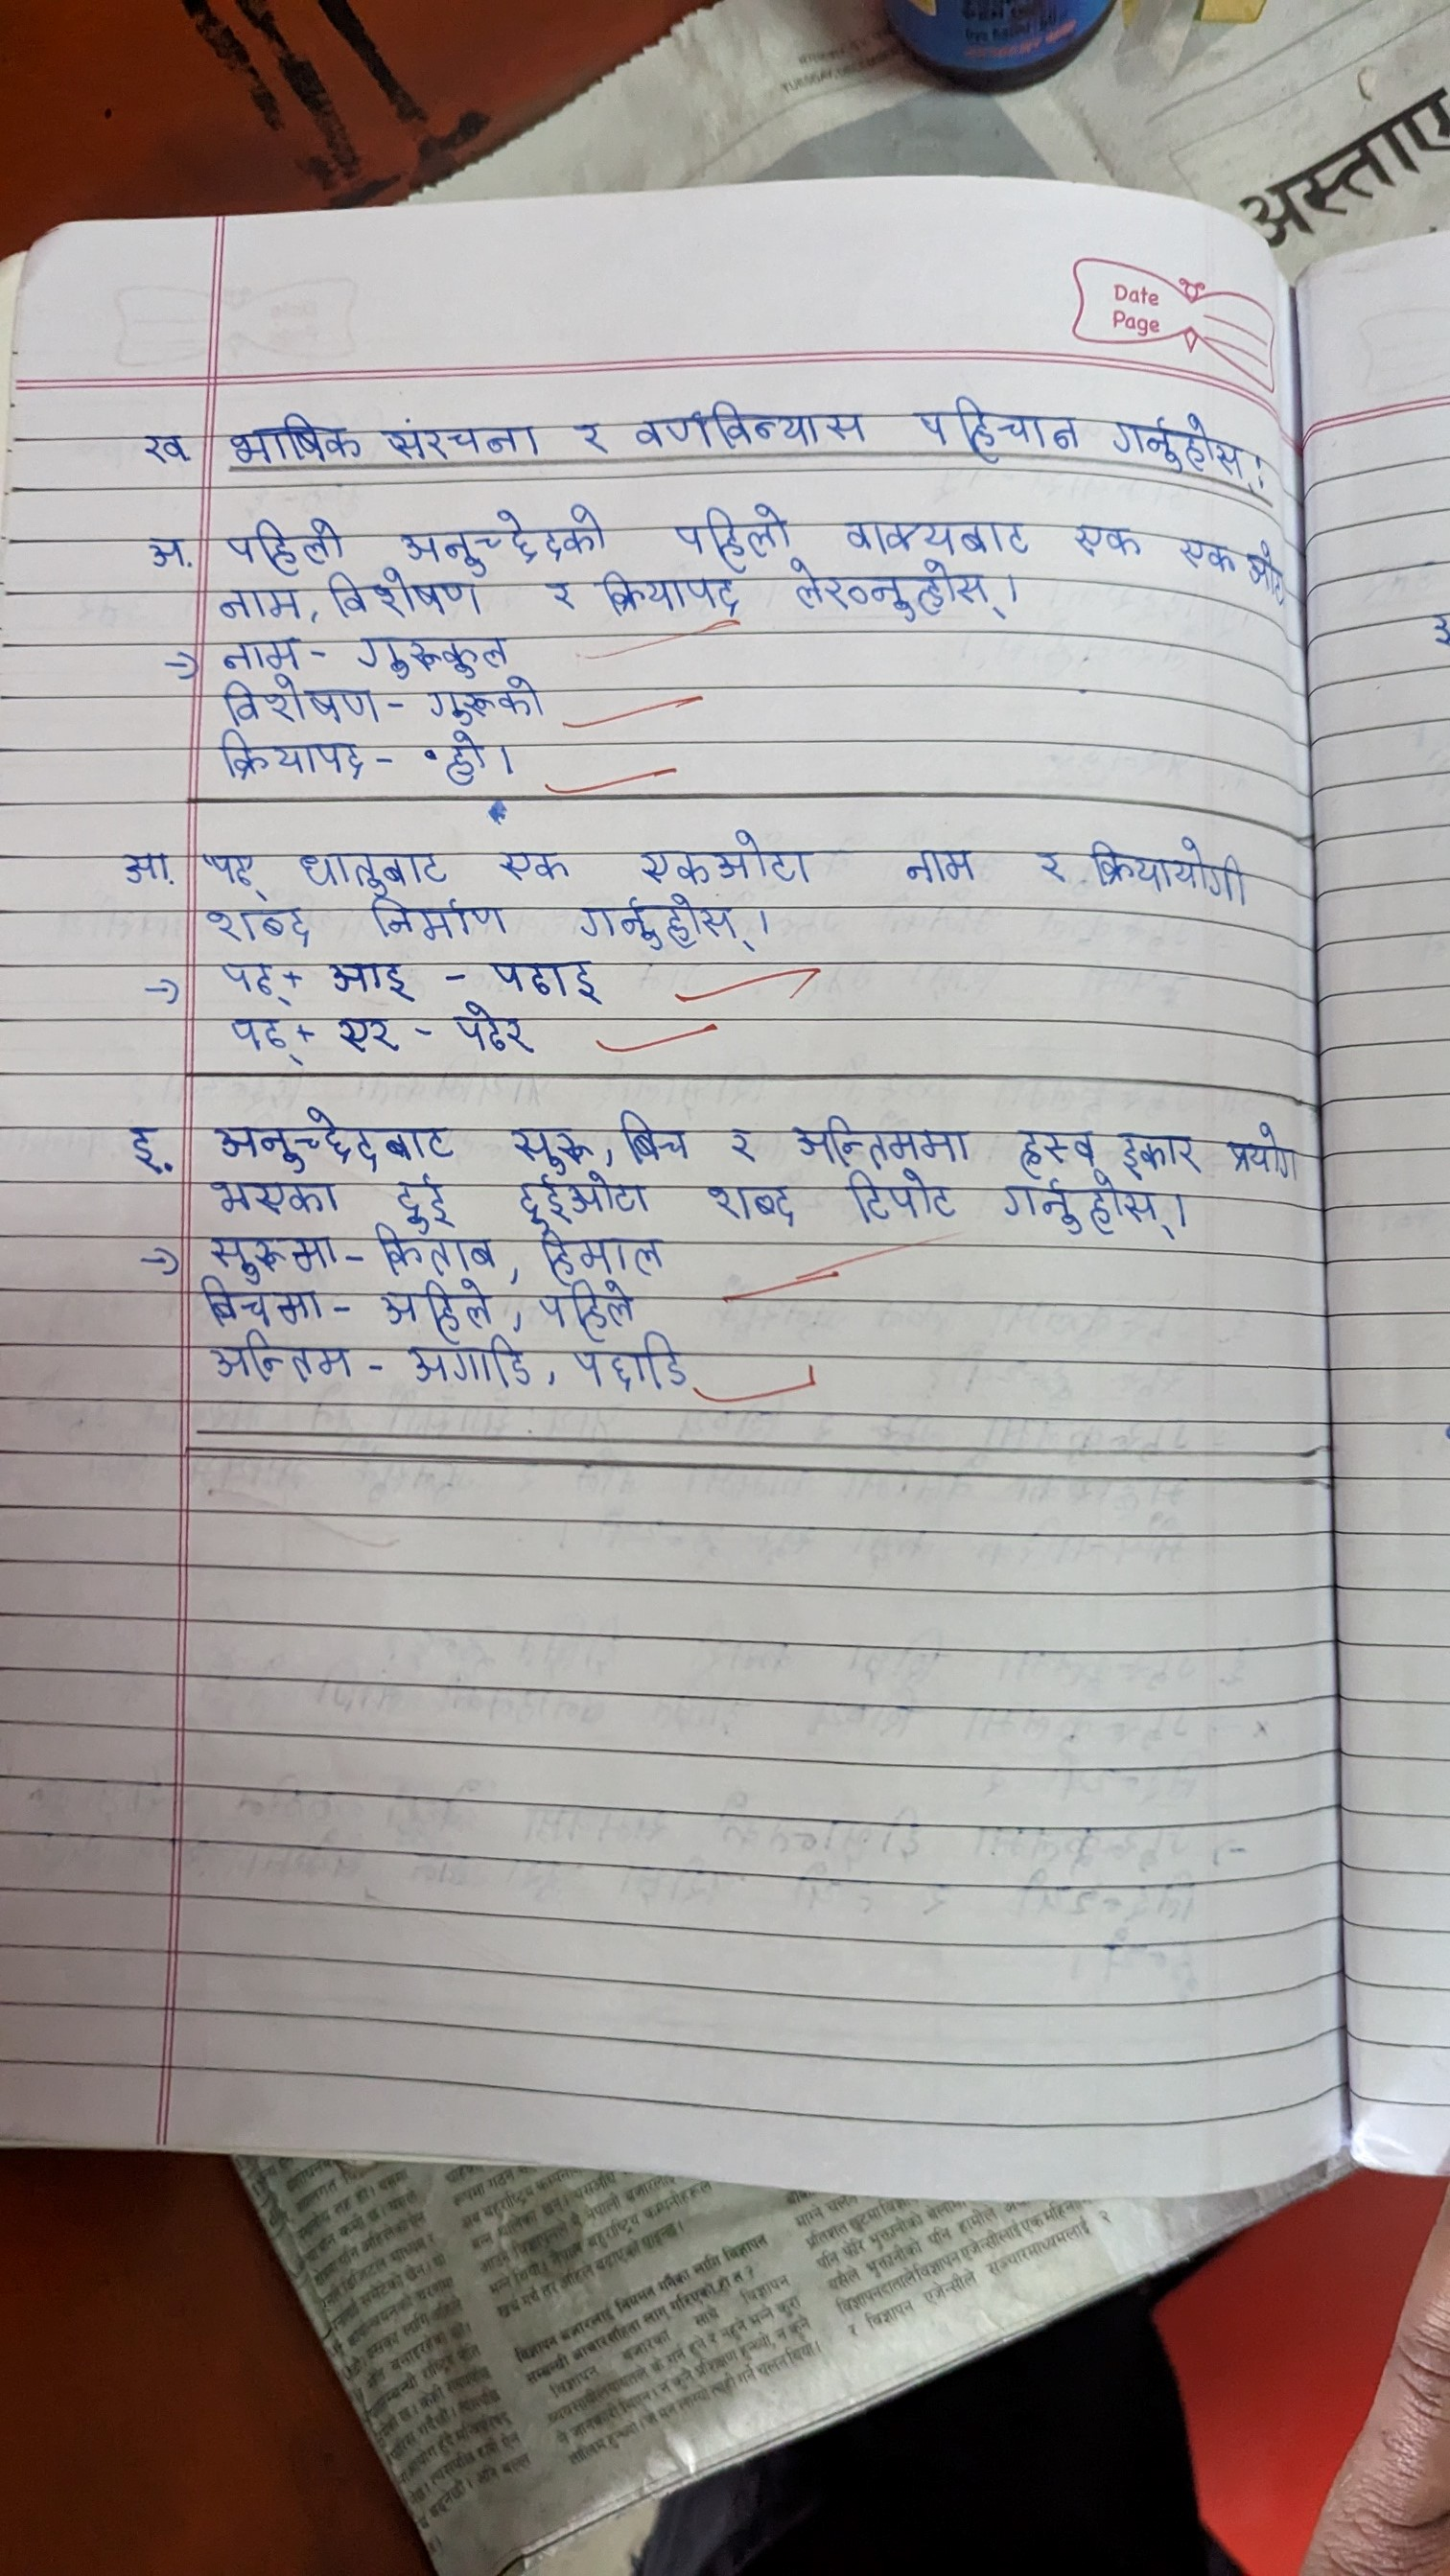text: (205, 1102, 462, 1173), (1101, 403, 1264, 494), (389, 508, 620, 570), (997, 1175, 1174, 1253), (634, 398, 869, 456), (1087, 830, 1261, 908), (906, 389, 1078, 465), (613, 826, 823, 886), (791, 556, 993, 617), (786, 1113, 977, 1169), (574, 893, 751, 952), (839, 508, 1034, 556), (292, 839, 455, 895), (204, 1327, 356, 1384), (565, 1332, 699, 1394), (666, 499, 788, 566), (212, 513, 354, 570), (218, 407, 366, 460), (347, 632, 533, 674), (220, 678, 382, 725), (515, 1173, 657, 1228), (218, 731, 366, 782), (324, 573, 483, 621), (375, 418, 536, 462), (595, 571, 744, 619), (365, 1224, 501, 1276), (536, 1230, 675, 1279), (407, 1336, 531, 1391), (377, 1279, 499, 1332), (366, 897, 508, 941), (195, 1276, 326, 1323), (200, 1230, 340, 1274), (485, 955, 614, 1003), (207, 1177, 351, 1217), (845, 1171, 953, 1224), (421, 678, 544, 724), (533, 1281, 641, 1332), (1223, 1116, 1303, 1182), (202, 902, 313, 948), (616, 1106, 699, 1166), (506, 1118, 600, 1171), (705, 1178, 797, 1230), (448, 1005, 538, 1056), (894, 837, 979, 890), (1114, 1122, 1200, 1173), (320, 957, 420, 1001), (1013, 1122, 1098, 1168), (1068, 513, 1142, 564), (216, 957, 290, 1007), (227, 1014, 301, 1063), (1165, 525, 1234, 579), (389, 1175, 466, 1223), (214, 584, 303, 625), (216, 635, 308, 674), (496, 846, 577, 886), (136, 522, 197, 577), (441, 731, 497, 787), (119, 846, 186, 892), (200, 844, 264, 890), (136, 430, 198, 474), (124, 1120, 170, 1175), (333, 1014, 397, 1051), (570, 416, 618, 460), (1030, 844, 1069, 888), (544, 579, 582, 619), (726, 1120, 758, 1164)
